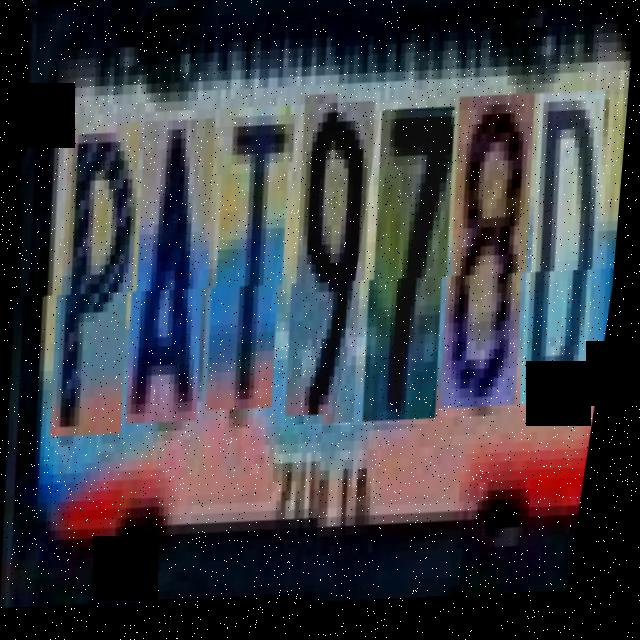7: (340, 111, 479, 438)
8: (416, 100, 558, 426)
9: (260, 103, 401, 439)
A: (102, 126, 239, 444)
D: (496, 99, 629, 424)
P: (26, 127, 164, 455)
T: (182, 115, 314, 431)
